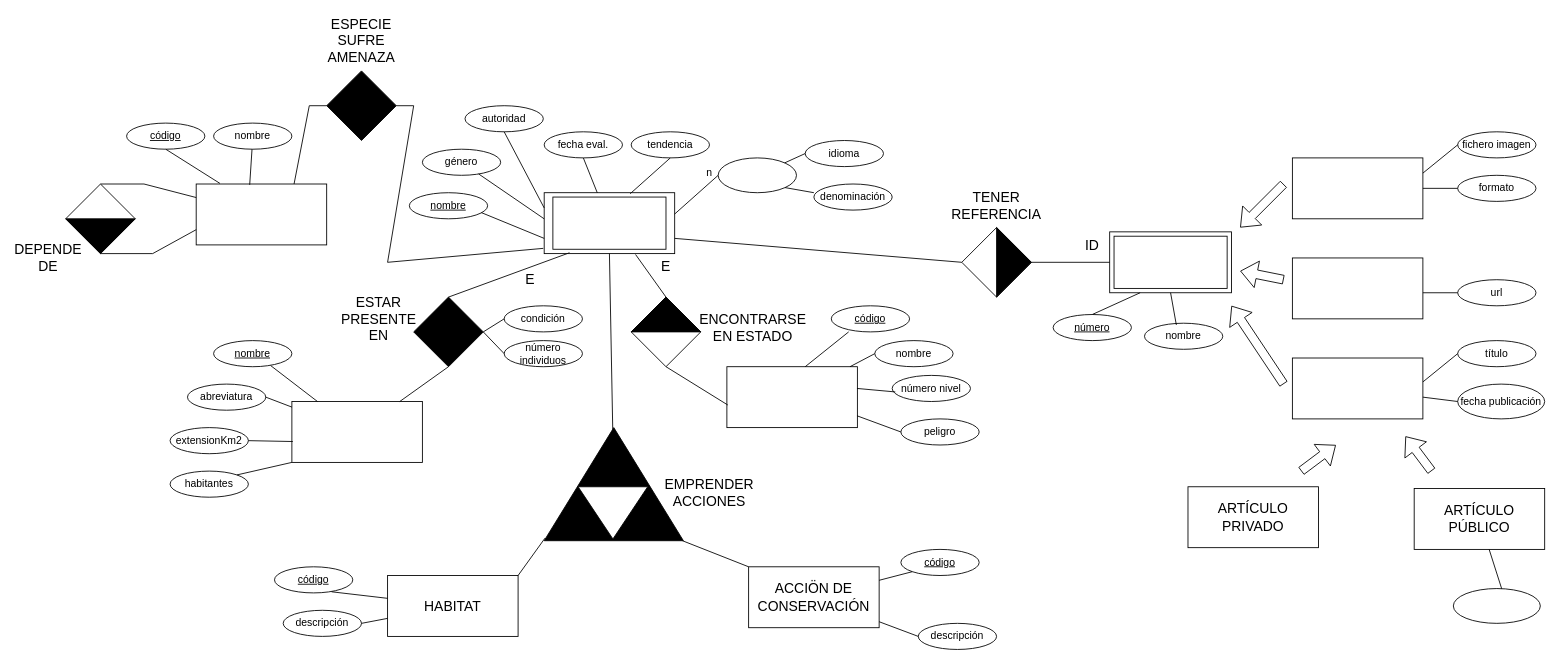
This 1560x665 diagram has some shape labels left out. Here are the shapes that lost their labels. From the top down, the box of each, then its label:
(717, 157, 796, 193): nombre otro idioma
(1292, 157, 1423, 219): IMAGEN
(195, 183, 327, 245): AMENAZA
(543, 192, 675, 254): ESPECIE
(1109, 231, 1231, 293): REFERENCIA
(1292, 257, 1423, 319): DIRECCIÓN WEB
(726, 366, 857, 428): ESTADO DE RIESGO
(1292, 357, 1423, 419): ARTÍCULO
(291, 401, 422, 462): PAÍS
(1452, 588, 1540, 623): documento PDF
